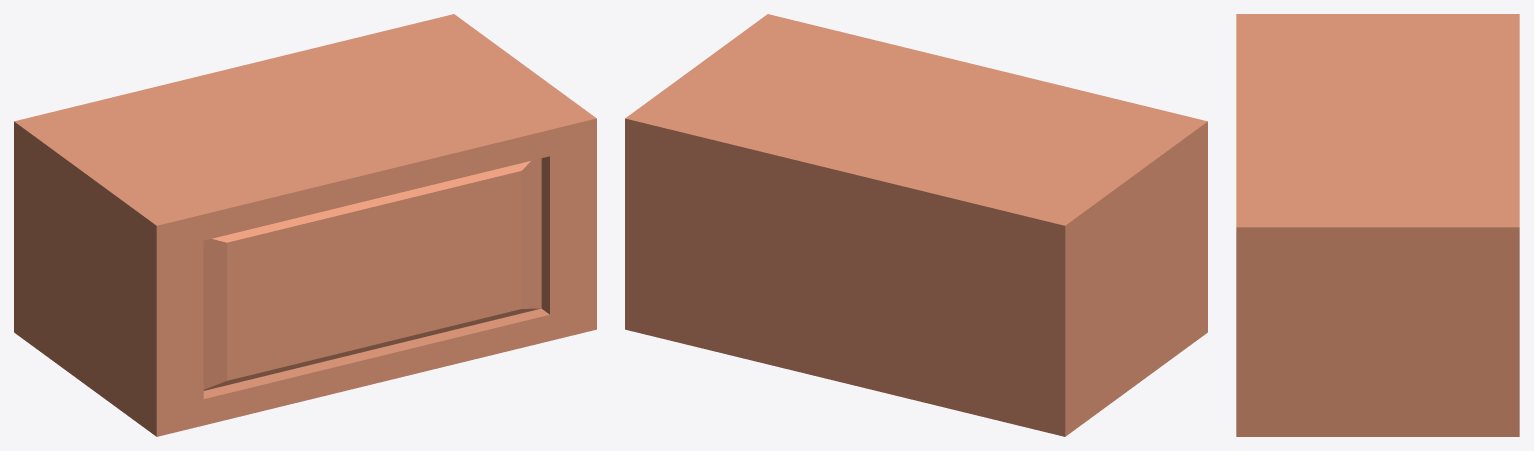
File: tv_stand.dae
3 renders of one model, left to right at view 1: azimuth 30°, elevation 25°; view 2: azimuth 150°, elevation 25°; view 3: azimuth 270°, elevation 25°, orthographic.
Visible parts, largest first — view 1: TV_Stand; view 2: TV_Stand; view 3: TV_Stand.
Boxes of the visible parts, x1,y1,x2,y2 form: TV_Stand: (14,14,596,436); TV_Stand: (625,14,1207,436); TV_Stand: (1236,14,1519,436).
Bounding box in the file's own units: 0.7902 × 0.4439 × 0.3622.
